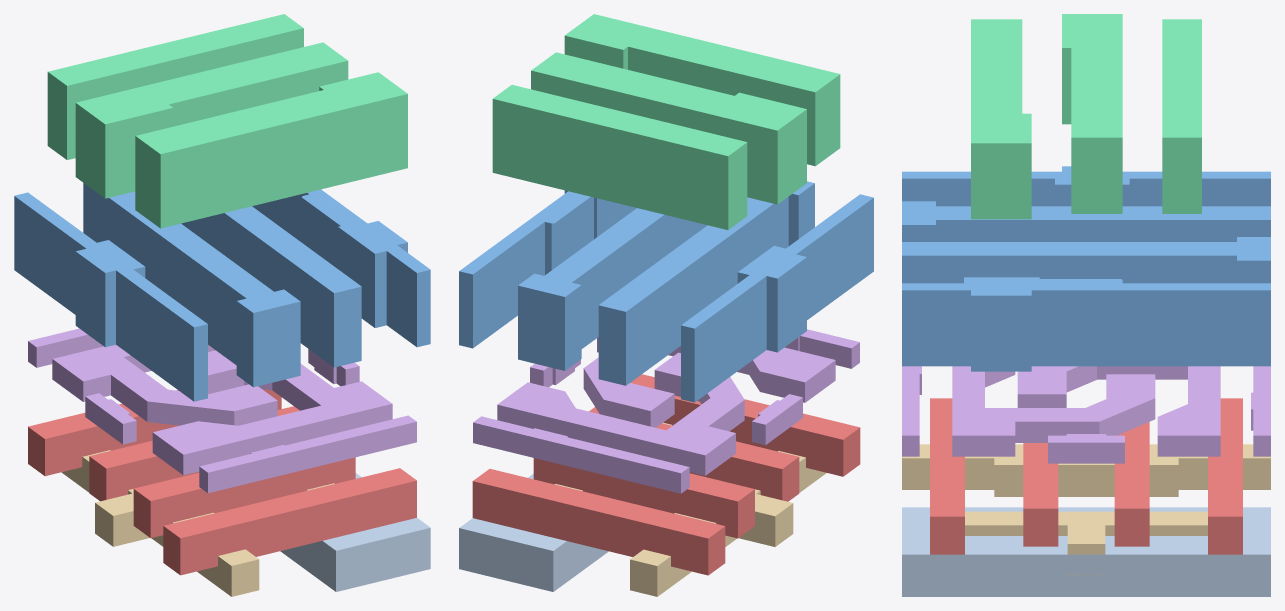
The model's file is bitcell_3d.glb.
3 renders of one model, left to right at view 1: azimuth 30°, elevation 25°; view 2: azimuth 150°, elevation 25°; view 3: azimuth 270°, elevation 25°, orthographic. The views are drawn at different scales.
Parts seen in each view (by area): view 1: met1, met2, li1, poly, nwell, diff; view 2: met1, met2, li1, poly, nwell, diff; view 3: met1, met2, li1, nwell, poly, diff.
Boxes of the visible parts, x1,y1,x2,y2 form: met1: (14,183,430,401); met2: (47,14,407,228); li1: (28,328,416,493); poly: (28,389,416,575); nwell: (280,473,430,591); diff: (62,450,334,596); met1: (459,181,873,402); met2: (492,14,840,229); li1: (473,329,859,493); poly: (472,374,860,575); nwell: (459,474,608,591); diff: (554,422,826,596); met1: (902,166,1270,371); met2: (971,14,1201,219); li1: (902,366,1270,463); nwell: (902,507,1270,596); poly: (930,398,1242,554); diff: (902,444,1270,575).
Size of the model in its own units: 13.1 by 21.7 by 15.8.
